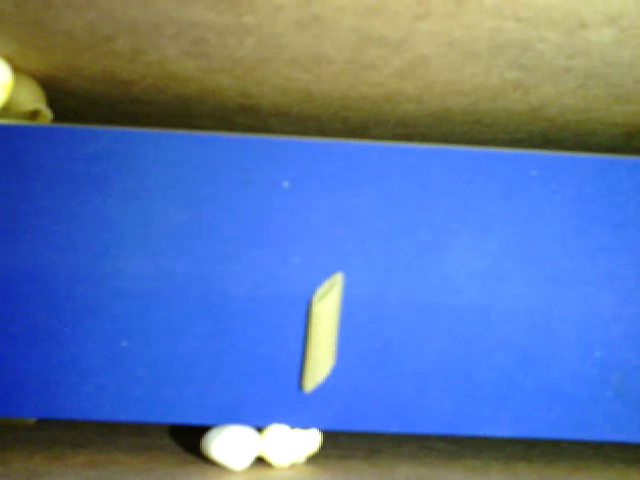penne: (300, 266, 349, 394)
shell: (3, 74, 55, 125)
